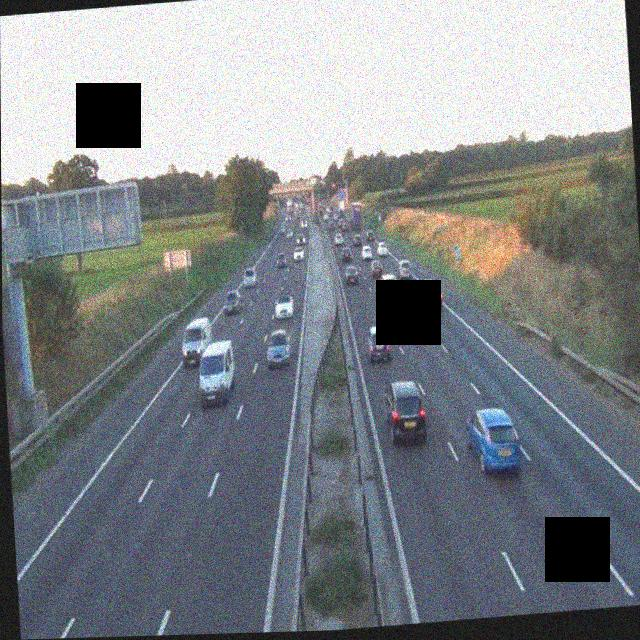car: (467, 406, 523, 477), (384, 380, 428, 446), (198, 340, 238, 405), (181, 316, 214, 368), (366, 323, 392, 361), (266, 328, 292, 366), (419, 277, 443, 313), (379, 273, 400, 302), (274, 293, 293, 321), (224, 289, 242, 315), (242, 266, 258, 288), (398, 259, 412, 282), (345, 264, 358, 286), (361, 243, 374, 261), (377, 240, 390, 257), (340, 246, 353, 263), (294, 245, 305, 262), (276, 253, 287, 268), (353, 233, 362, 248), (334, 233, 344, 245), (298, 233, 307, 245), (302, 217, 309, 228)
truck: (350, 202, 363, 232)
